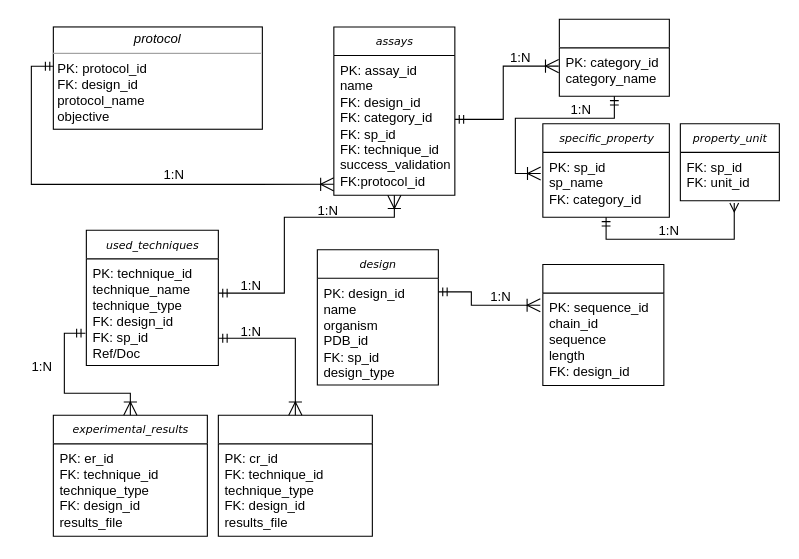
Image size: 799x559. Some labels were removed from this diagram. The box of each missing label's shape, as (x1, y1, x2, y2) in pixels:
categories: (558, 18, 669, 96)
computational_results: (217, 414, 372, 536)
sequences: (542, 263, 664, 386)
